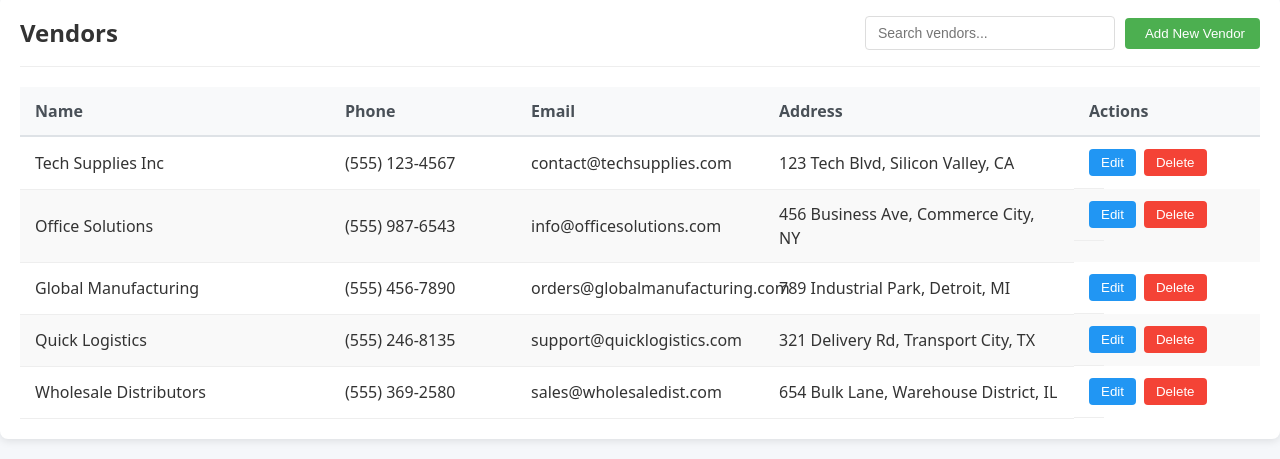
Test case: VendorList Component › shows no vendors message when filter has no results
// Get the search input and type a search term that won't match any vendors
In the field with placeholder "Search vendors...": (990, 33) [865,16,1115,50], type "NonExistentVendor"
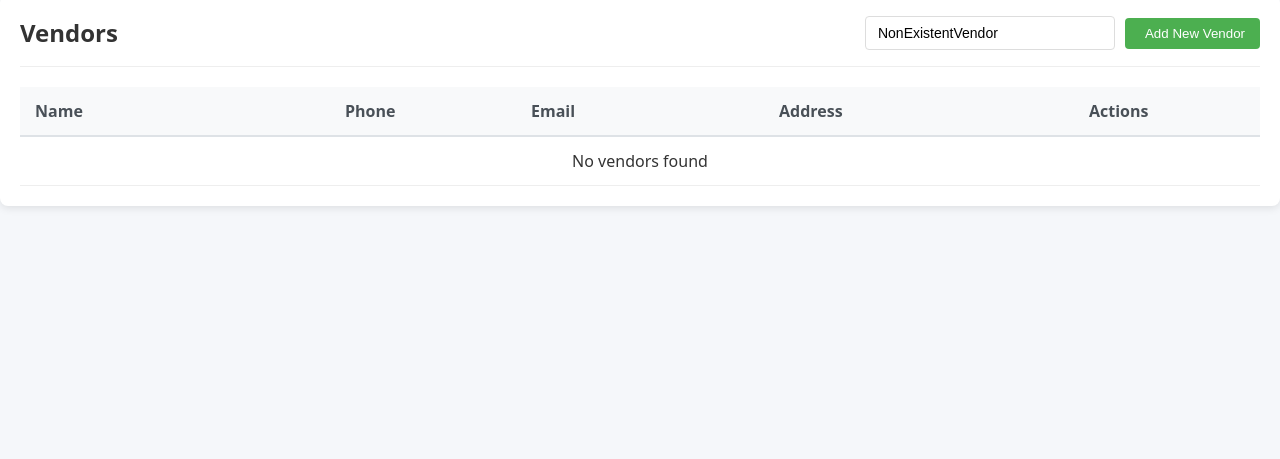
Expected: the text "No vendors found" is shown, [20,136,1260,186]
